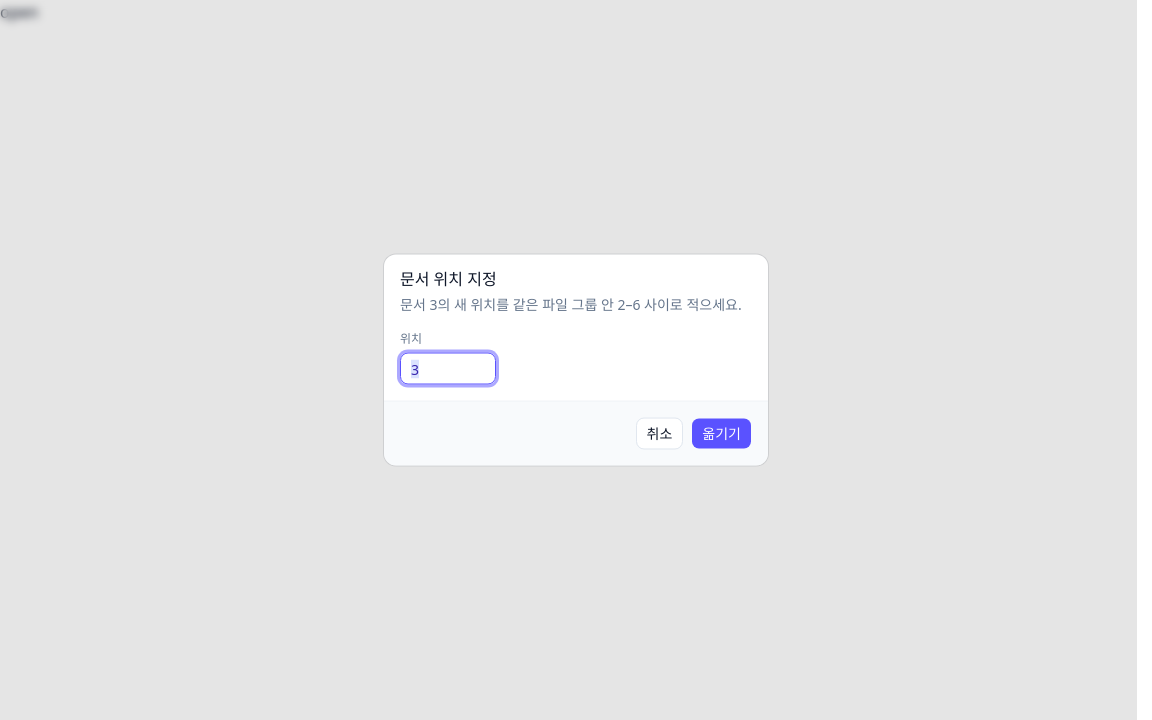
Scenario: DocumentPositionDialog 검사 › 범위 아래 이면 오류를 보이고 닫지 않는다
Step 1. Replace the text in the field with test id "job-review-document-position-dialog-input" with "1" → point(448, 368), box [400,352,496,384]
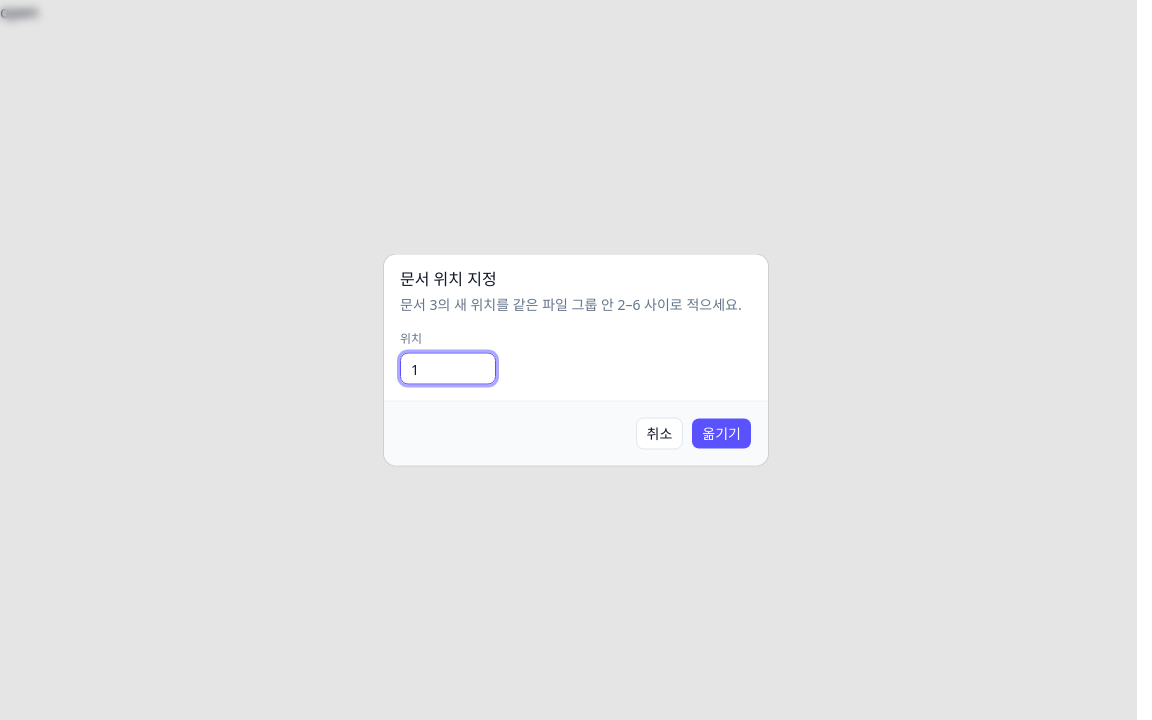
Step 2. Click the button with test id "job-review-document-position-dialog-button-move" → point(722, 434), box [691,418,752,450]
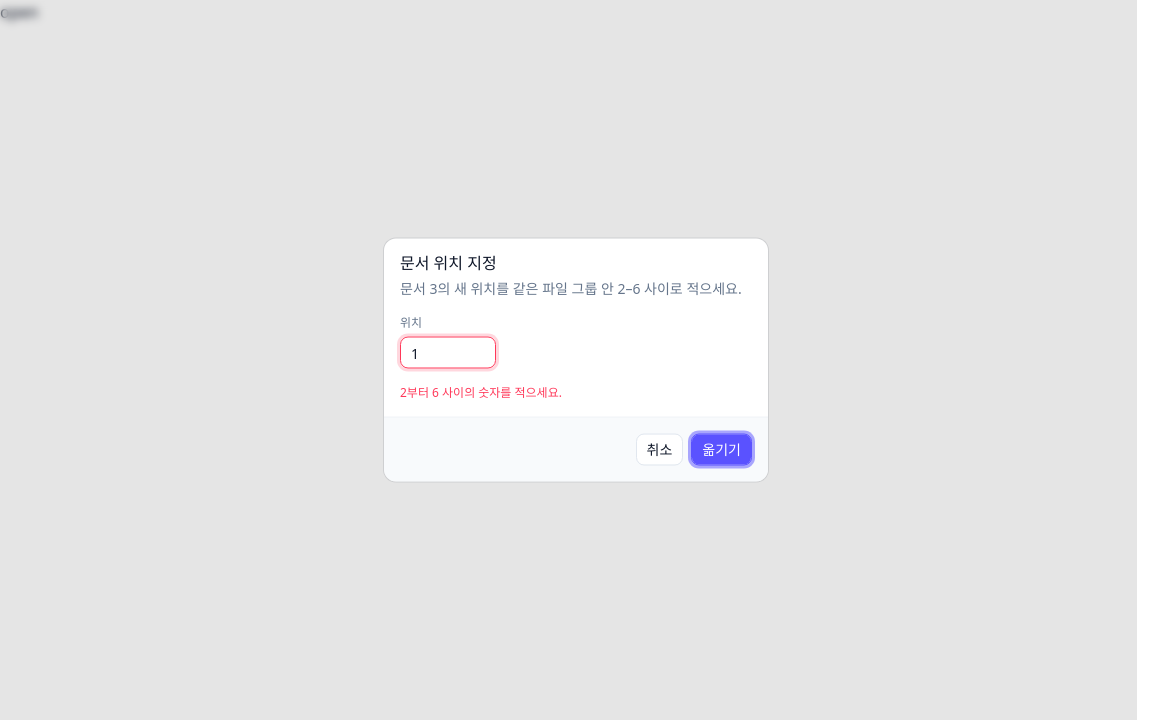
Expected: the dialog with test id "job-review-document-position-dialog" is shown, [384,238,768,482]
Result: the message reads "2부터 6 사이의 숫자를 적으세요." at [400,384,562,400]
